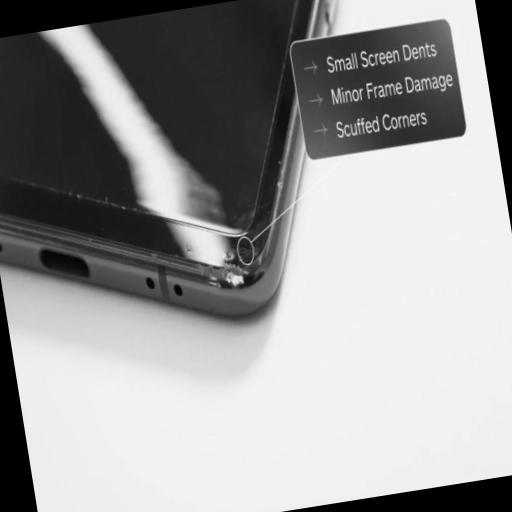phone: (0, 0, 345, 324)
